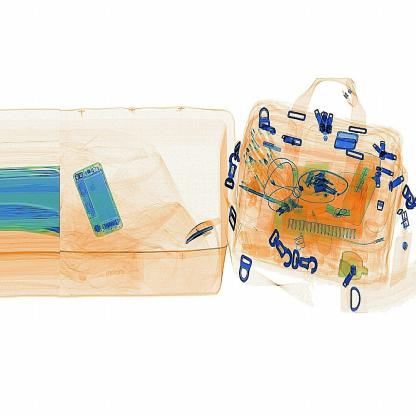pliers: (183, 212, 226, 250)
